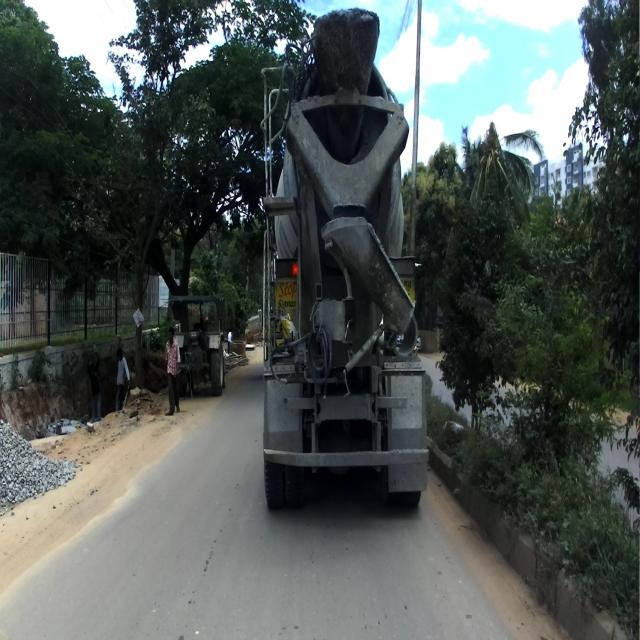truck: (258, 0, 428, 508)
